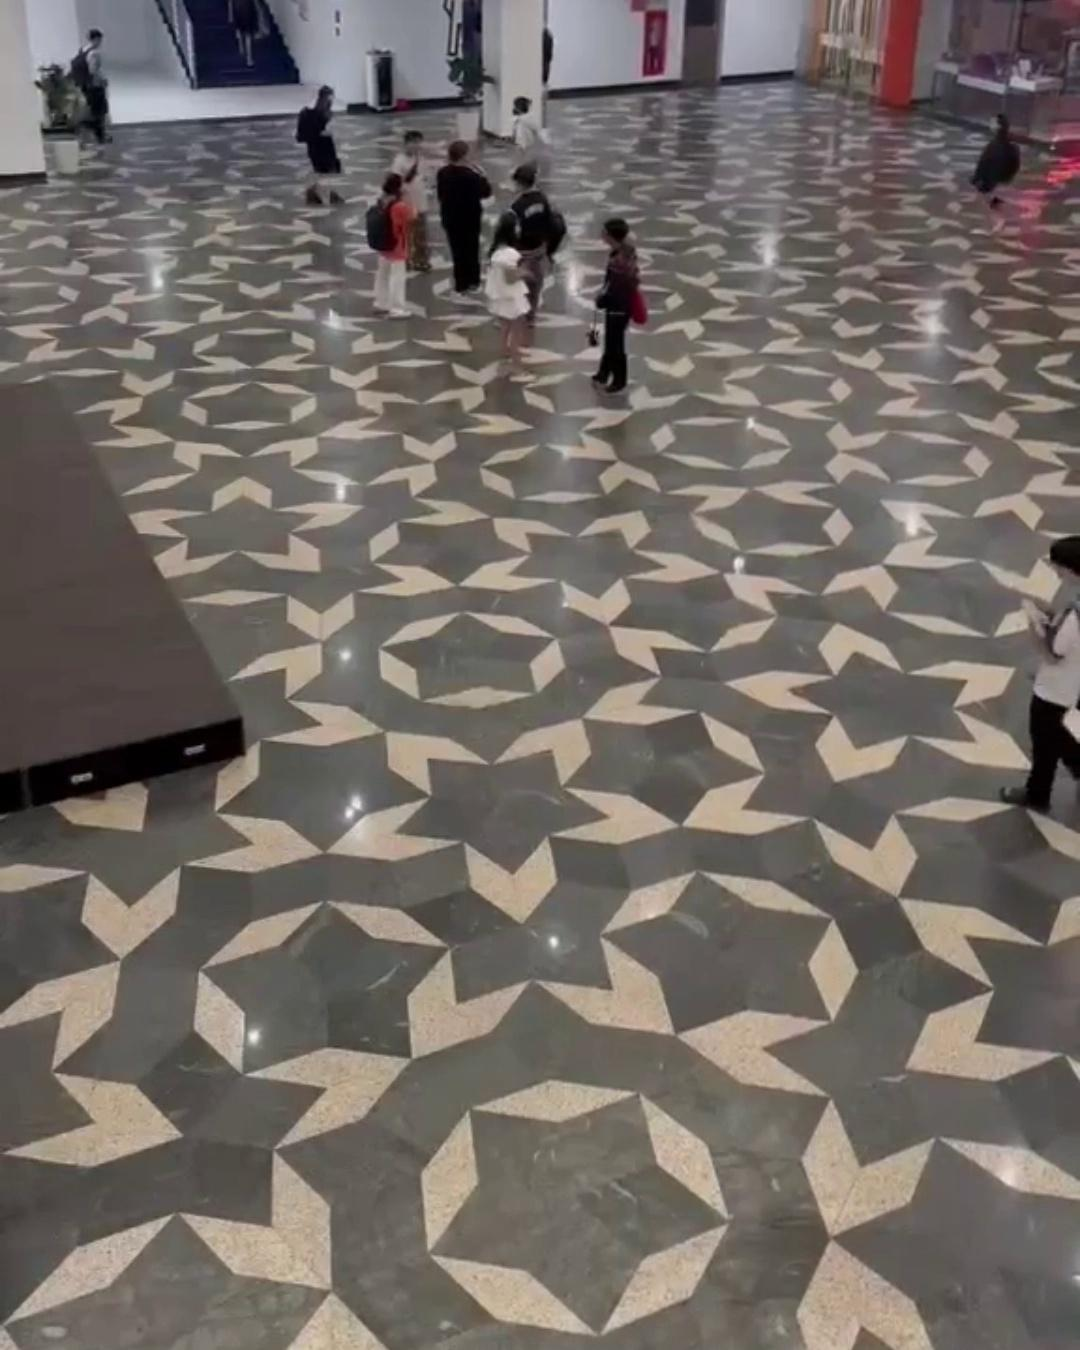your_class: (585, 219, 648, 396), (506, 163, 566, 333), (434, 142, 493, 295), (485, 214, 536, 370), (364, 172, 414, 321), (294, 87, 346, 208), (390, 131, 432, 272), (69, 30, 114, 147), (510, 96, 552, 201), (227, 1, 270, 67), (541, 24, 554, 88)
